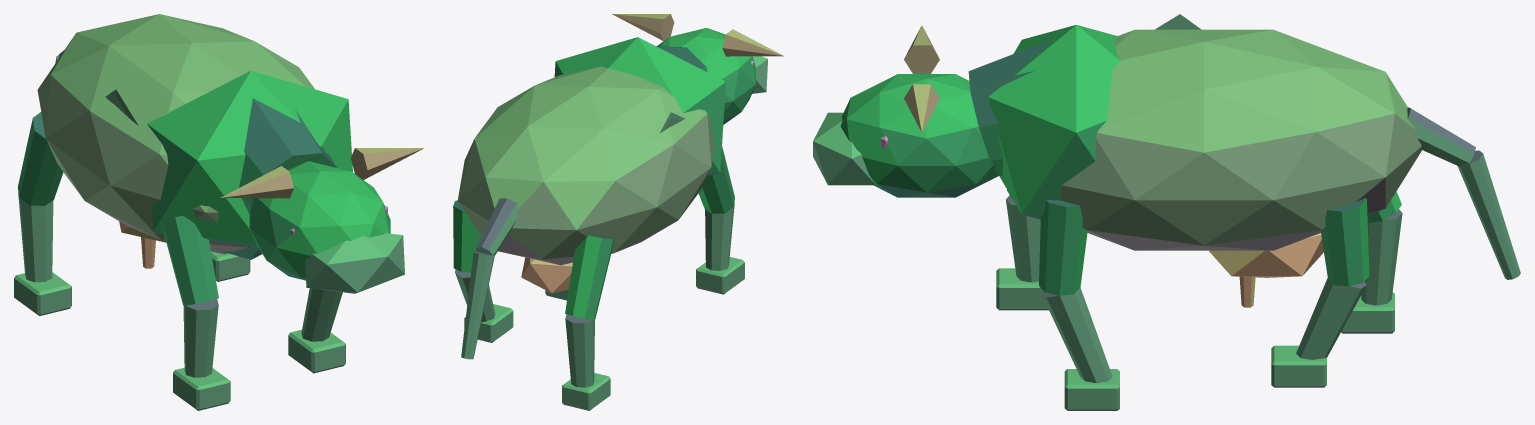
The model's file is creature_cow_down_a_v01.glb.
The picture shows the model from 3 angles, left to right: view 1: azimuth 30°, elevation 25°; view 2: azimuth 150°, elevation 25°; view 3: azimuth 270°, elevation 25°; orthographic projection. The views are drawn at different scales.
Parts seen in each view (by area): view 1: GEO_creature_cow_down_a_v01; view 2: GEO_creature_cow_down_a_v01; view 3: GEO_creature_cow_down_a_v01.
Part boxes in pixels (<box>): GEO_creature_cow_down_a_v01: <box>14,14,424,410</box>; GEO_creature_cow_down_a_v01: <box>453,14,783,410</box>; GEO_creature_cow_down_a_v01: <box>813,14,1520,410</box>.
Size of the model in its own units: 1.18 by 1.55 by 2.93.
